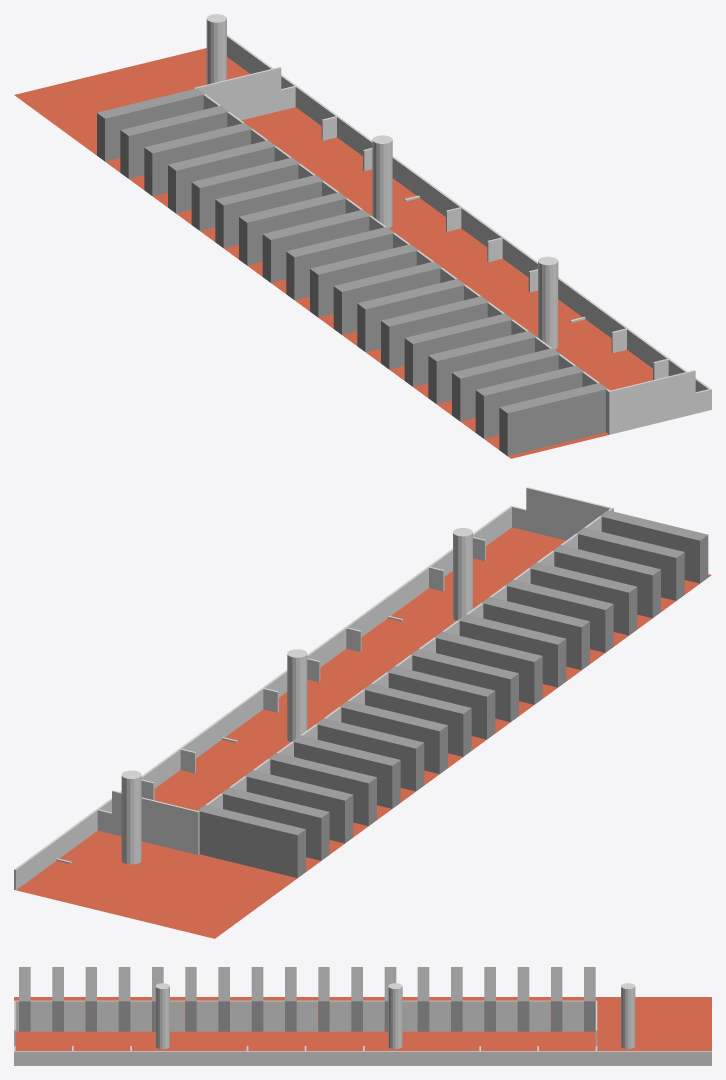
The model's file is biblioteca-collisioni-xl.dae.
3 renders of one model, top to bottom at view 1: azimuth 30°, elevation 25°; view 2: azimuth 150°, elevation 25°; view 3: azimuth 270°, elevation 25°, orthographic. The views are drawn at different scales.
Parts seen in each view (by area): view 1: Pavimento.002, Pavimento.001, Pavimento.005, Placeholder.003, Cube.009, Placeholder.015, Placeholder.014, Placeholder.009, Placeholder.002, Placeholder.007, Placeholder.004, Placeholder.012 (+17 smaller); view 2: Pavimento.002, Pavimento.001, Pavimento.005, Placeholder.008, Placeholder.010, Placeholder.016, Placeholder.003, Placeholder, Placeholder.012, Placeholder.005, Placeholder.002, Placeholder.006 (+17 smaller); view 3: Pavimento.002, Pavimento.001, Pavimento.005, Cube.018, Cube.029, Cube, Cylinder.001, Cylinder, Cylinder.002, Placeholder.016, Placeholder.010, Placeholder.007 (+32 smaller).
Part boxes in pixels (x1,y1,x2,y2): Pavimento.002: (14, 48, 363, 215); Pavimento.001: (180, 169, 529, 337); Pavimento.005: (345, 290, 652, 458); Placeholder.003: (499, 383, 607, 456); Cube.009: (608, 370, 695, 434); Placeholder.015: (191, 157, 299, 230); Placeholder.014: (404, 313, 512, 386); Placeholder.009: (120, 105, 228, 178); Placeholder.002: (475, 365, 583, 438); Placeholder.007: (333, 261, 441, 334); Placeholder.004: (262, 209, 370, 282); Placeholder.012: (357, 279, 465, 352); Pavimento.002: (16, 770, 379, 938); Pavimento.001: (196, 648, 545, 817); Pavimento.005: (361, 527, 711, 696); Placeholder.008: (197, 805, 305, 878); Placeholder.010: (245, 770, 353, 843); Placeholder.016: (316, 718, 424, 791); Placeholder.003: (600, 510, 708, 583); Placeholder: (529, 562, 637, 635); Placeholder.012: (458, 614, 566, 687); Placeholder.005: (387, 666, 495, 739); Placeholder.002: (576, 527, 684, 600); Placeholder.006: (410, 649, 518, 722); Pavimento.002: (479, 997, 711, 1050); Pavimento.001: (246, 997, 479, 1050); Pavimento.005: (14, 997, 246, 1050); Cube.018: (246, 1051, 479, 1065); Cube.029: (479, 1051, 711, 1065); Cube: (14, 1051, 246, 1065); Cylinder.001: (388, 983, 402, 1048); Cylinder: (155, 983, 169, 1048); Cylinder.002: (621, 983, 635, 1048); Placeholder.016: (417, 967, 429, 1031); Placeholder.010: (517, 967, 529, 1031); Placeholder.007: (251, 967, 263, 1031).
Bounding box in the file's own units: 9.8 × 42 × 3.98.
